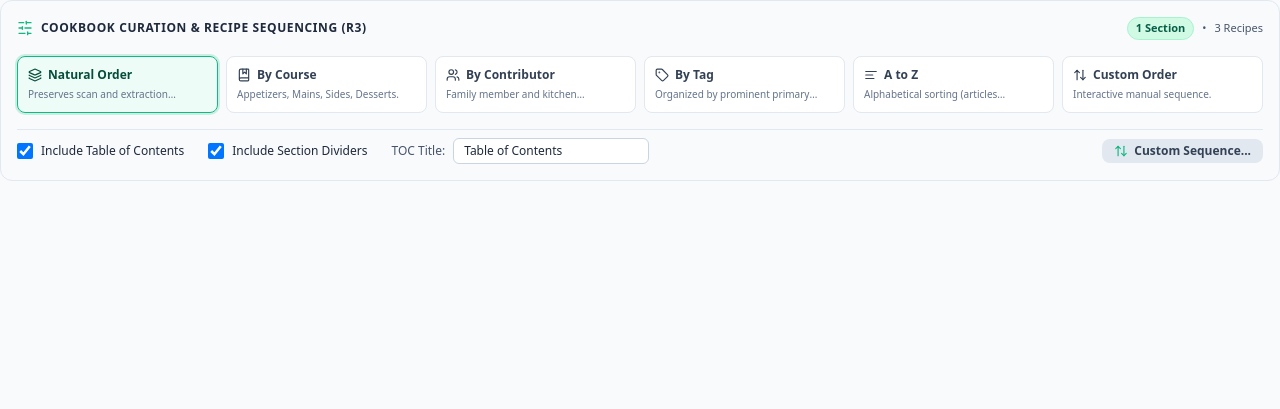
Scenario: Phase 9: Export Curation, Reordering & Grouping (Milestone 3 / R3) › 2. ExportCurationToolbar Component › allows toggling manual recipe sequence drawer and shows position badges
Click the button "Custom Sequence...": (1183, 150) [1102,138,1263,162]
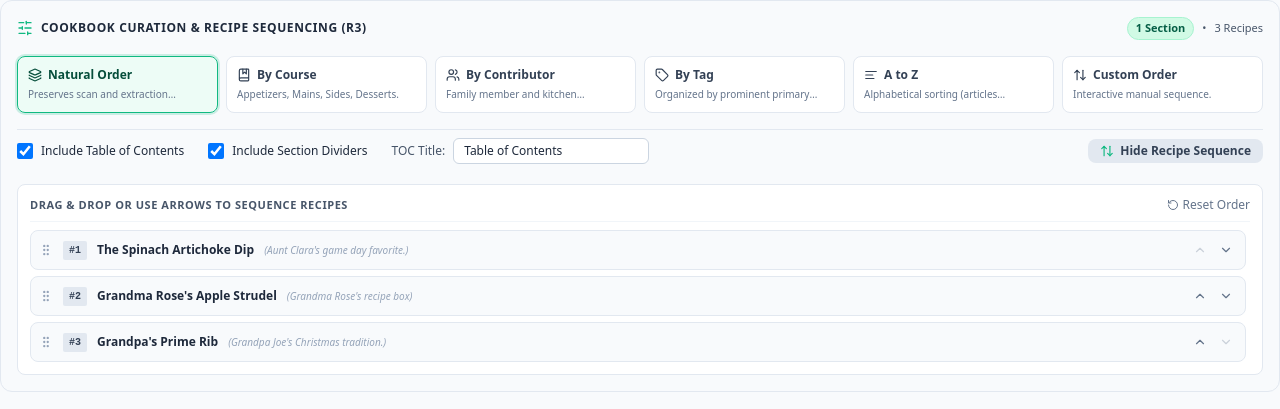
Expected: the text "#1" is shown, [63,240,87,260]
Expected: the text "#2" is shown, [63,286,87,306]
Expected: the text "#3" is shown, [63,332,87,352]
